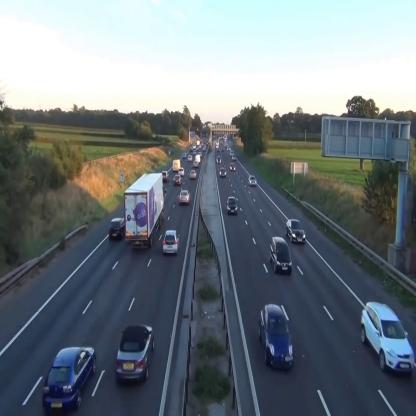car: (360, 300, 415, 375), (42, 345, 97, 411), (258, 304, 294, 370), (116, 326, 154, 382), (286, 219, 306, 245), (163, 230, 180, 255), (108, 218, 124, 240), (227, 196, 237, 214), (179, 190, 191, 204), (248, 175, 257, 187), (173, 174, 181, 184), (162, 170, 169, 181), (189, 170, 197, 178), (220, 167, 227, 176), (178, 167, 184, 176), (230, 162, 236, 171), (193, 161, 199, 167), (217, 156, 221, 164), (188, 155, 192, 162)
lorry: (124, 172, 166, 250), (269, 236, 293, 275), (173, 160, 180, 172)
